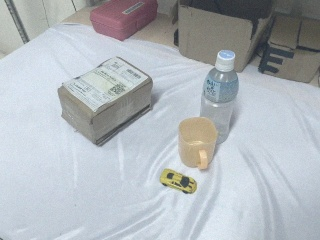bottle: (200, 50, 240, 144)
box: (57, 55, 155, 146), (177, 1, 277, 73), (258, 15, 320, 83), (90, 1, 159, 43)
cup: (177, 117, 218, 170)
toy_car: (160, 168, 198, 194)
